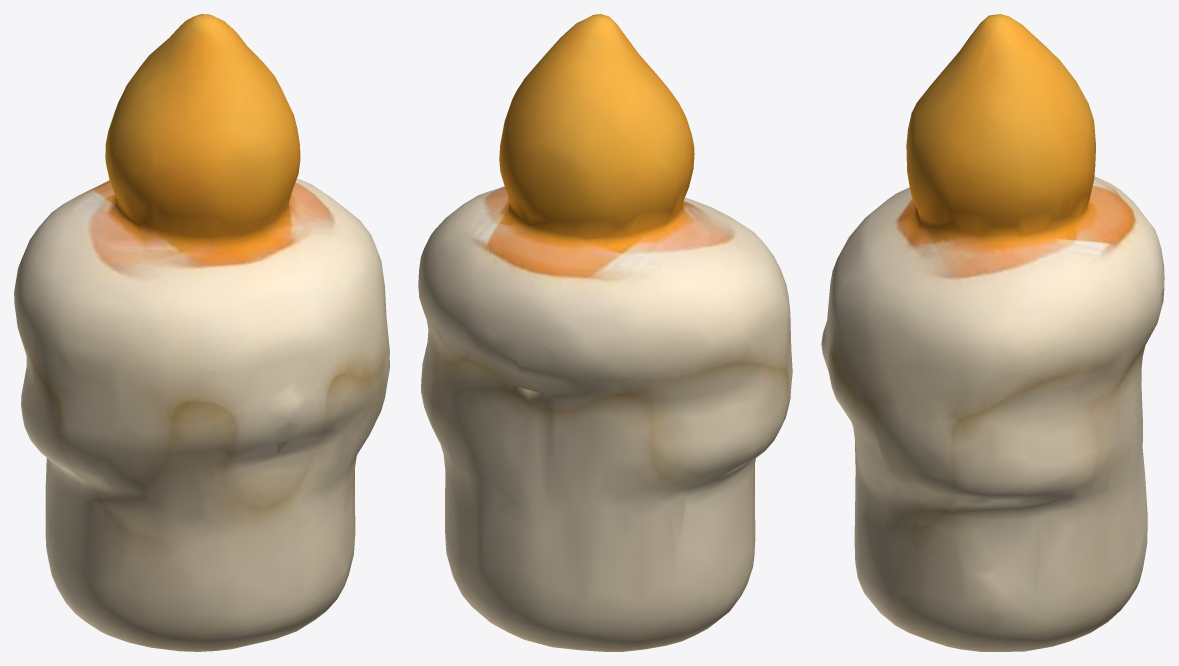
Rendered from candle.glb.
3 views of the same model, side by side, from view 1: azimuth 30°, elevation 25°; view 2: azimuth 150°, elevation 25°; view 3: azimuth 270°, elevation 25° (orthographic).
Visible parts, largest first — view 1: prop; view 2: prop; view 3: prop.
Boxes of the visible parts, x1,y1,x2,y2 form: prop: (14, 14, 389, 651); prop: (418, 14, 792, 651); prop: (821, 14, 1164, 651).
Size of the model in its own units: 0.3209 by 0.544 by 0.2854.
Materials: 1 (1 with a texture image).
